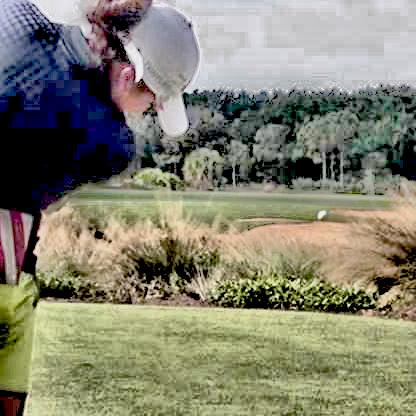golfball: (314, 206, 325, 221)
